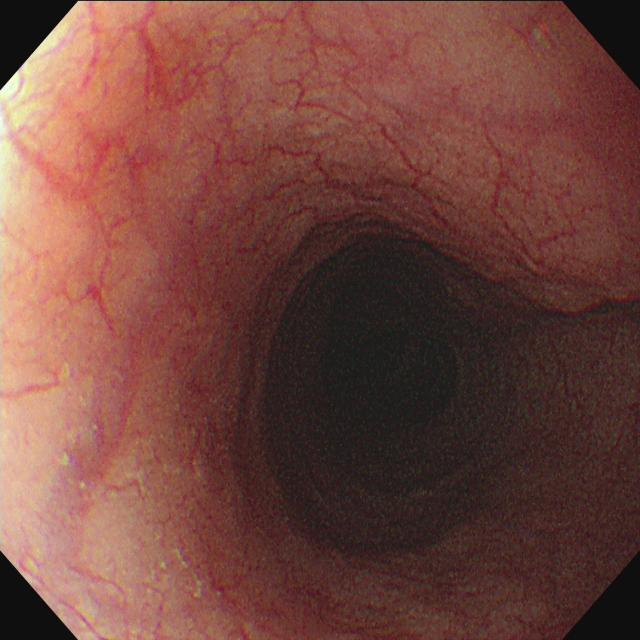E: (312, 272, 441, 448)
